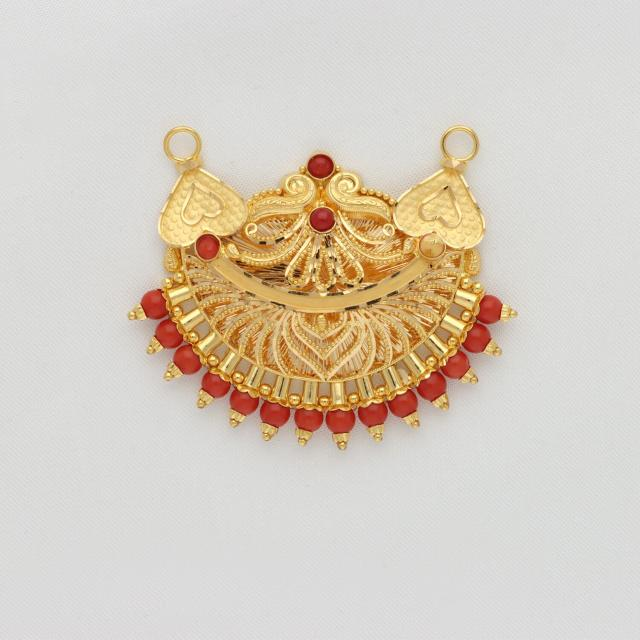missing gem: (419, 234, 444, 258)
